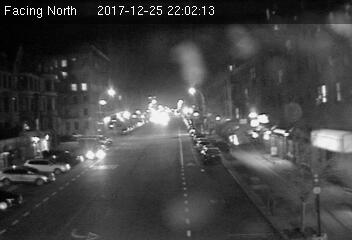car: (201, 147, 221, 163), (85, 146, 106, 161)
